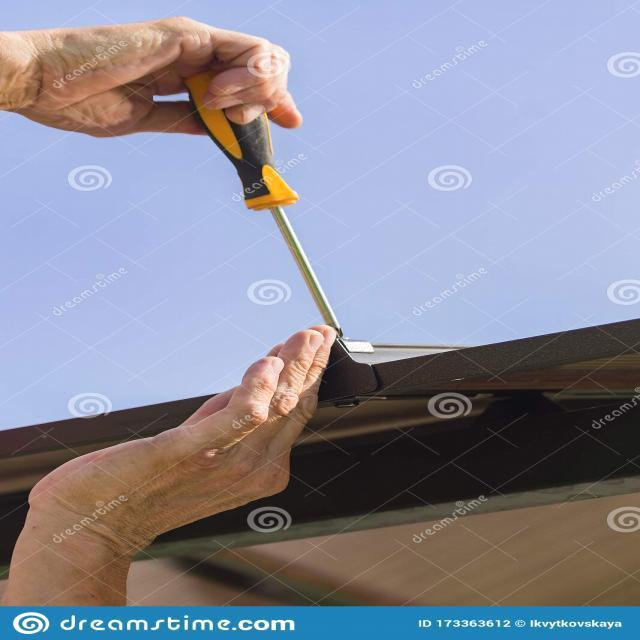screwdriver: (179, 64, 351, 340)
